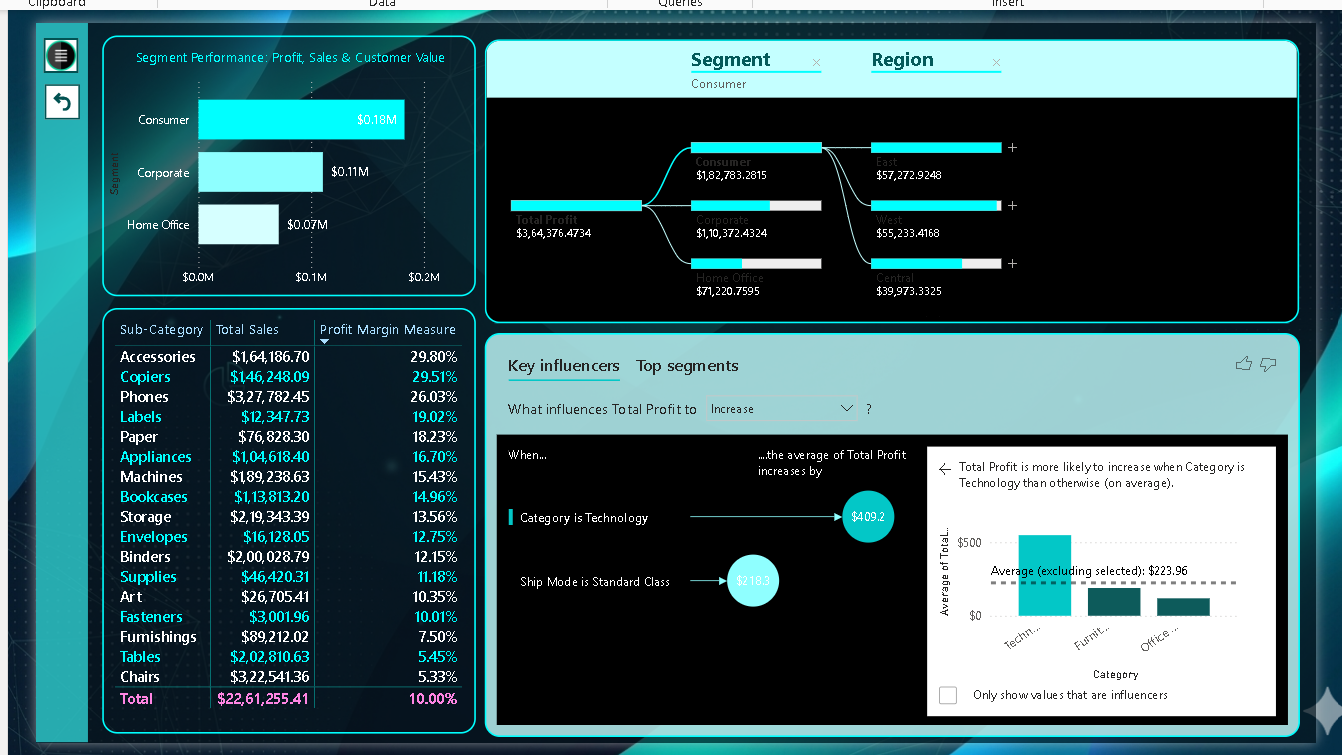

The dashboard page shown, as its layout file describes it:
{"tool":"powerbi","page":{"name":"Customer and Product Insights","canvas":[1280,720],"ordinal":3},"visuals":[{"type":"shape","title":"Short Menu","box":[0,0,51.9,719.5],"z":0,"group":"g3"},{"type":"group","id":"g1","title":"Left Visuals","box":[66.2,13,374,698.7],"z":0},{"type":"tableEx","title":"Subcategory v/s total sales and profit margin","fields":{"Values":["DimProduct.Sub-Category","_Measures.Total Sales","_Measures.Profit Margin Measure"]},"box":[66.2,285.7,373.7,425.6],"z":0,"group":"g1"},{"type":"keyDriversVisual","fields":{"ExplainBy":["DimProduct.Category","DimProduct.Sub-Category","DimLocation.Region","DimLocation.State","DimShipMode.Ship Mode"],"Target":["_Measures.Total Profit"]},"box":[448.8,309.7,815.2,404],"z":0,"group":"g2"},{"type":"barChart","title":"Segment Performance: Profit, Sales & Customer Value","fields":{"Category":["DimCustomer.Segment"],"Y":["_Measures.Total Profit"]},"box":[66.2,13,373.7,261.1],"z":1000,"group":"g1"},{"type":"actionButton","title":"Menu Button","box":[7.8,15.6,35,35],"z":1000,"group":"g3"},{"type":"group","id":"g2","title":"AI Visuals","box":[448.8,15.7,814.3,698.5],"z":1000},{"type":"decompositionTreeVisual","fields":{"Analyze":["_Measures.Total Profit"],"ExplainBy":["DimCustomer.Segment","DimLocation.Region","DimProduct.Category","DimShipMode.Ship Mode","DimProduct.Sub-Category"]},"box":[449.3,15.7,814.7,284],"z":1000,"group":"g2"},{"type":"group","id":"g3","title":"Small Navbar","box":[0,0,51.9,719.5],"z":2000},{"type":"actionButton","title":"Reset Button","box":[9.1,61,35.1,35.1],"z":2000,"group":"g3"}]}

Visuals, with their boxes on the page's 1280x720 design canvas (x1, y1, x2, y2). These are canvas units, not pixel positions in the 1342x755 screenshot, which may show the page scaled, cropped or inside an application window:
"Short Menu" shape: pyautogui.locateOnScreen(0, 0, 52, 720)
"Left Visuals" group: pyautogui.locateOnScreen(66, 13, 440, 712)
"Subcategory v/s total sales and profit margin" tableEx: pyautogui.locateOnScreen(66, 286, 440, 711)
keyDriversVisual - DimProduct.Category x DimProduct.Sub-Category: pyautogui.locateOnScreen(449, 310, 1264, 714)
"Segment Performance: Profit, Sales & Customer Value" barChart: pyautogui.locateOnScreen(66, 13, 440, 274)
"Menu Button" actionButton: pyautogui.locateOnScreen(8, 16, 43, 51)
"AI Visuals" group: pyautogui.locateOnScreen(449, 16, 1263, 714)
decompositionTreeVisual - _Measures.Total Profit x DimCustomer.Segment: pyautogui.locateOnScreen(449, 16, 1264, 300)
"Small Navbar" group: pyautogui.locateOnScreen(0, 0, 52, 720)
"Reset Button" actionButton: pyautogui.locateOnScreen(9, 61, 44, 96)
